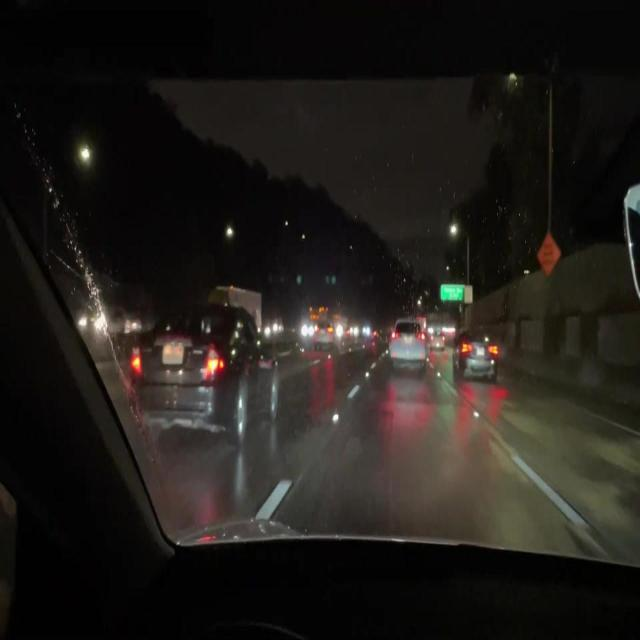Car: (124, 298, 281, 442), (388, 313, 429, 371), (451, 326, 498, 376)
